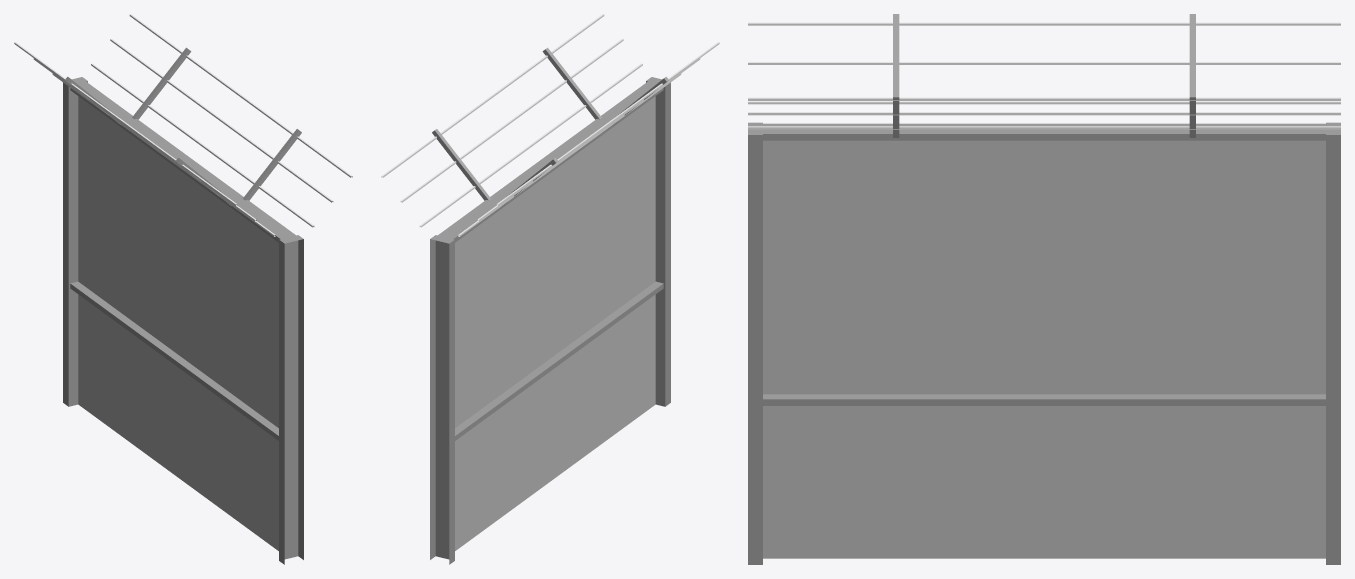
The picture shows the model from 3 angles, left to right: view 1: azimuth 30°, elevation 25°; view 2: azimuth 150°, elevation 25°; view 3: azimuth 270°, elevation 25°; orthographic projection. The views are drawn at different scales.
Visible parts, largest first — view 1: SM_Grid_A_400; view 2: SM_Grid_A_400; view 3: SM_Grid_A_400.
Boxes of the visible parts, bbox=[...] form: SM_Grid_A_400: bbox=[14, 14, 352, 564]; SM_Grid_A_400: bbox=[381, 14, 719, 564]; SM_Grid_A_400: bbox=[748, 14, 1340, 564].
Size of the model in its own units: 130 by 400 by 377.
